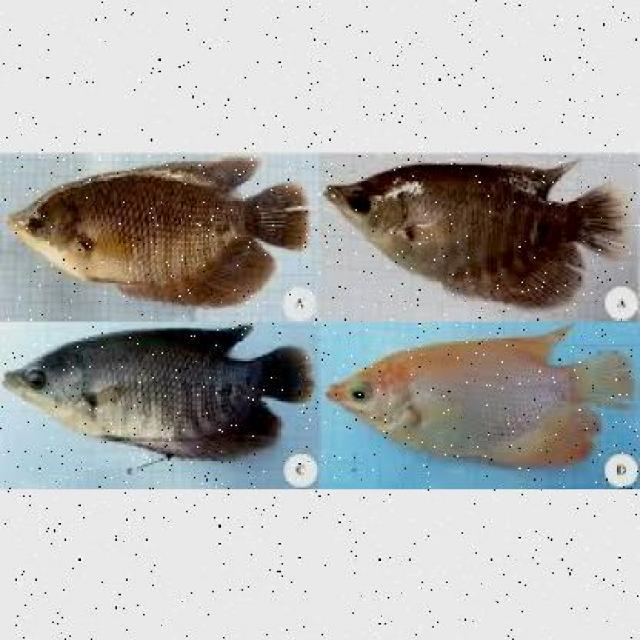gurame: (0, 152, 311, 314), (322, 150, 626, 312), (324, 320, 624, 468), (8, 321, 306, 464)
